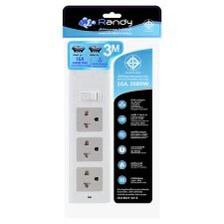book: (60, 4, 162, 219)
three_eye_plug: (64, 60, 112, 205)
